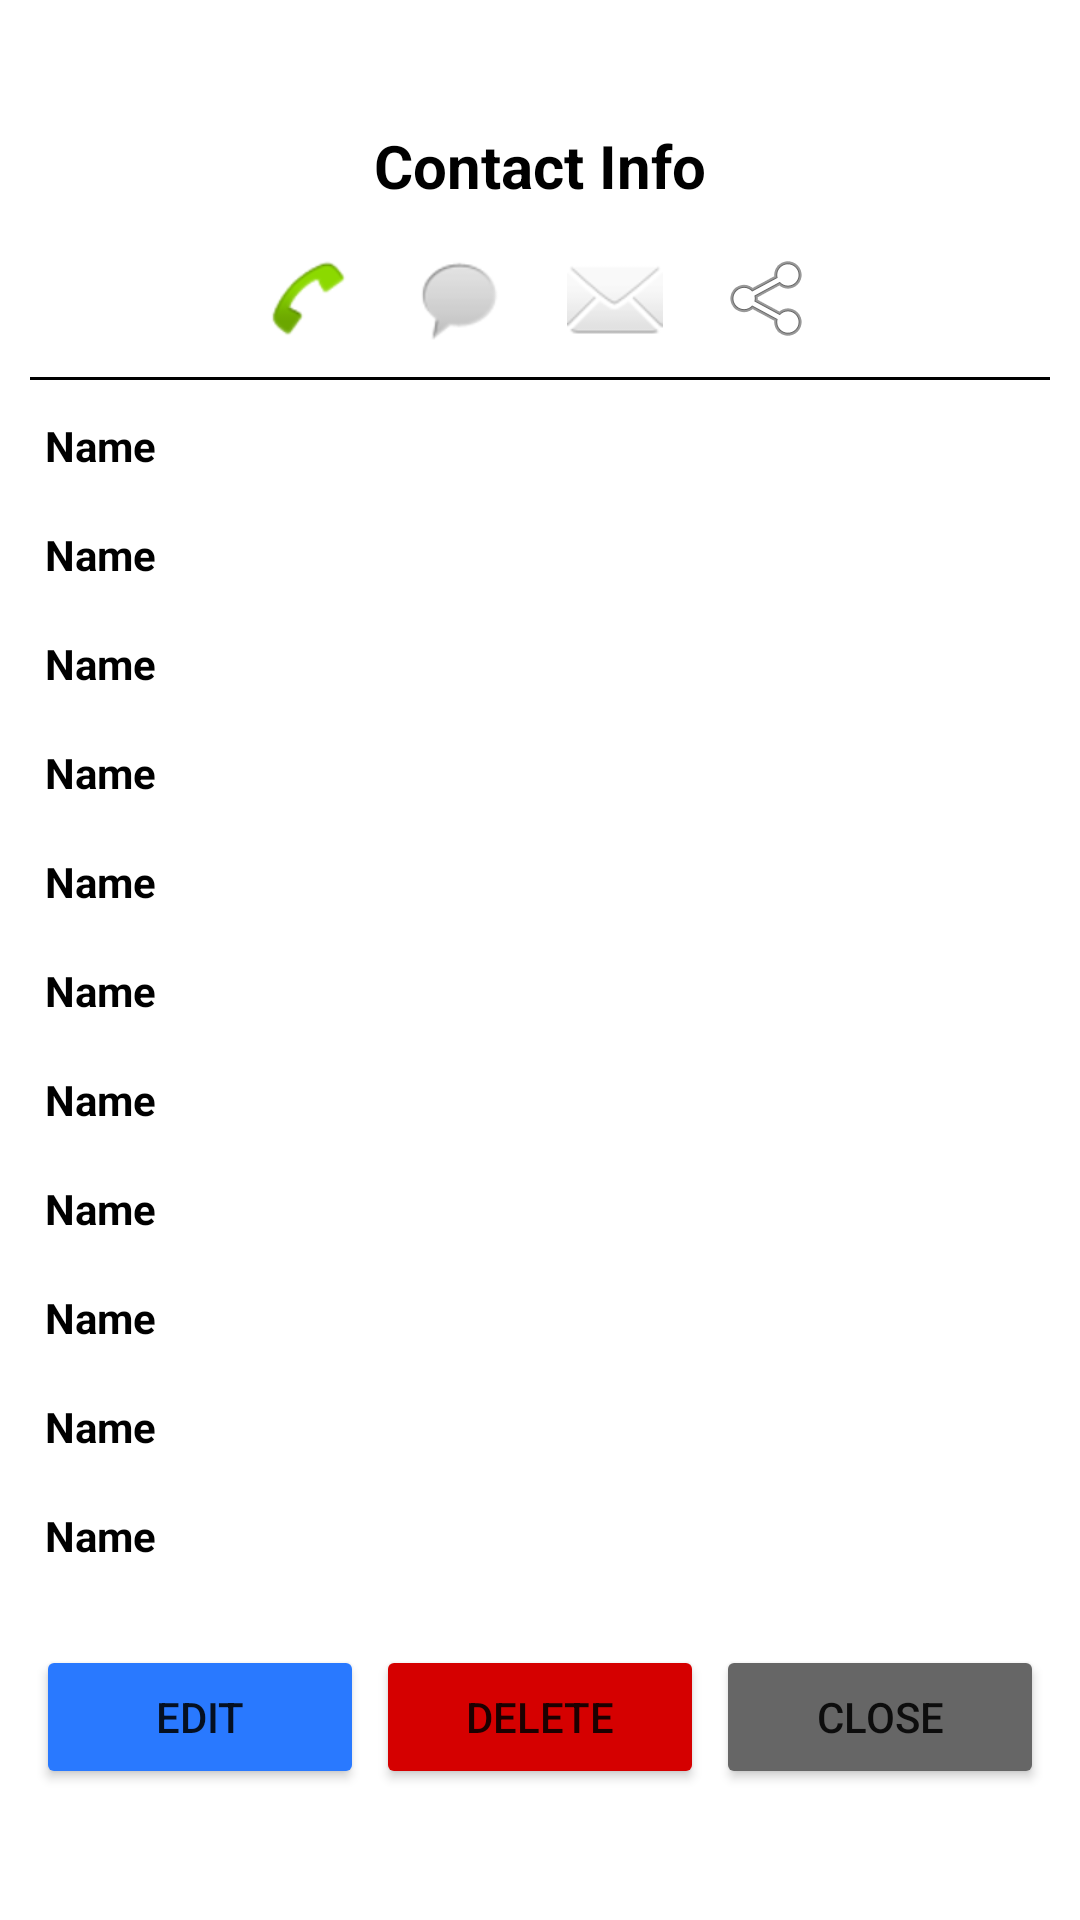

Icon click points for this 1080×1920 phone screenshot, format [x,y]:
email: [615,301]
share: [766,298]
sym action call: [308,298]
sym action chat: [458,300]
